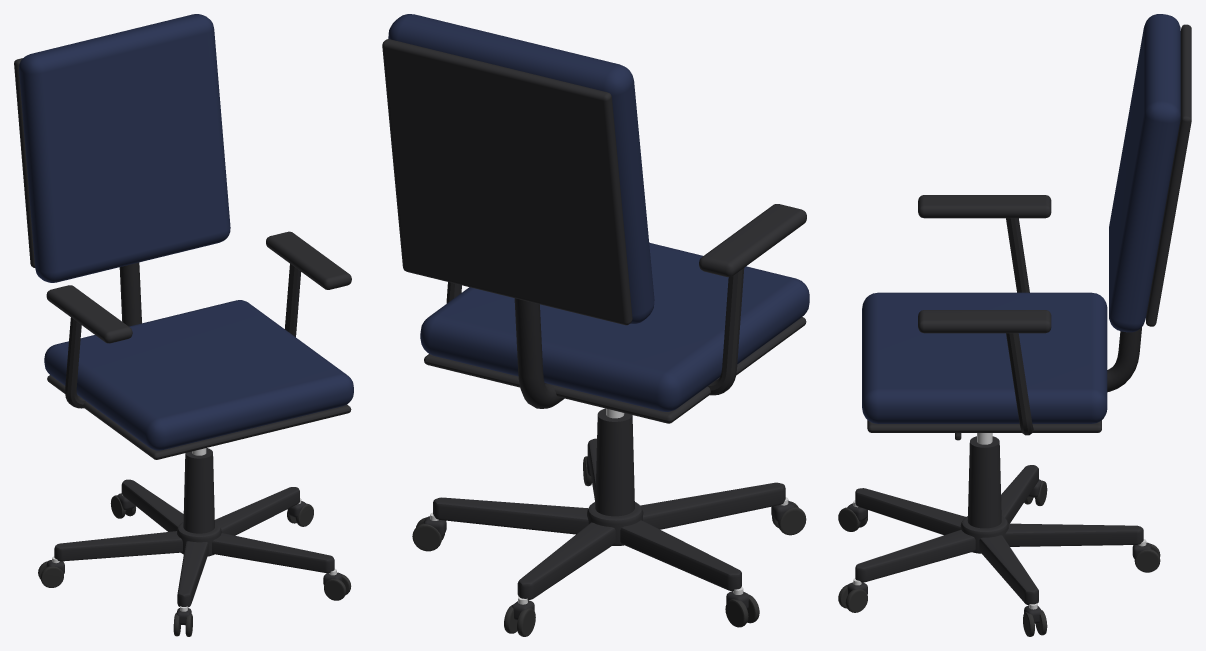
File: teacher_chair.glb
3 views of the same model, side by side, from view 1: azimuth 30°, elevation 25°; view 2: azimuth 150°, elevation 25°; view 3: azimuth 270°, elevation 25° (orthographic). The views are drawn at different scales.
Visible parts, largest first — view 1: teacher_chair; view 2: teacher_chair; view 3: teacher_chair.
Boxes of the visible parts, x1,y1,x2,y2 form: teacher_chair: (14,14,353,636); teacher_chair: (382,14,809,636); teacher_chair: (838,14,1191,636).
Size of the model in its own units: 0.6341 by 1.06 by 0.6628.
